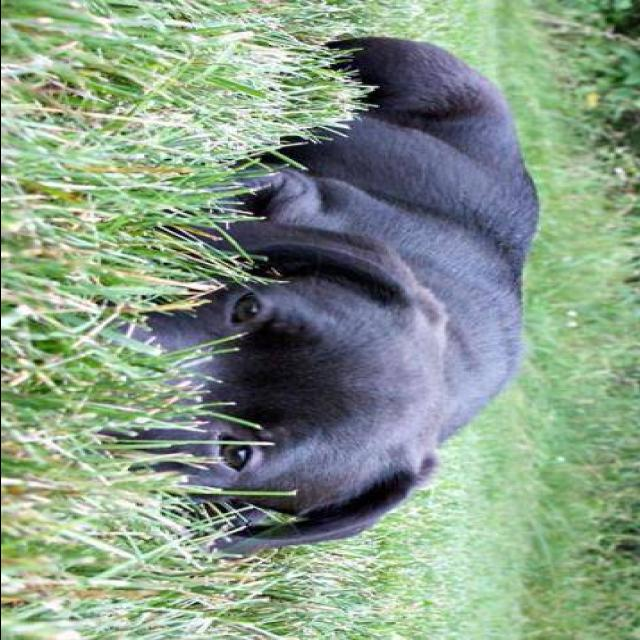dog: (110, 29, 564, 562)
